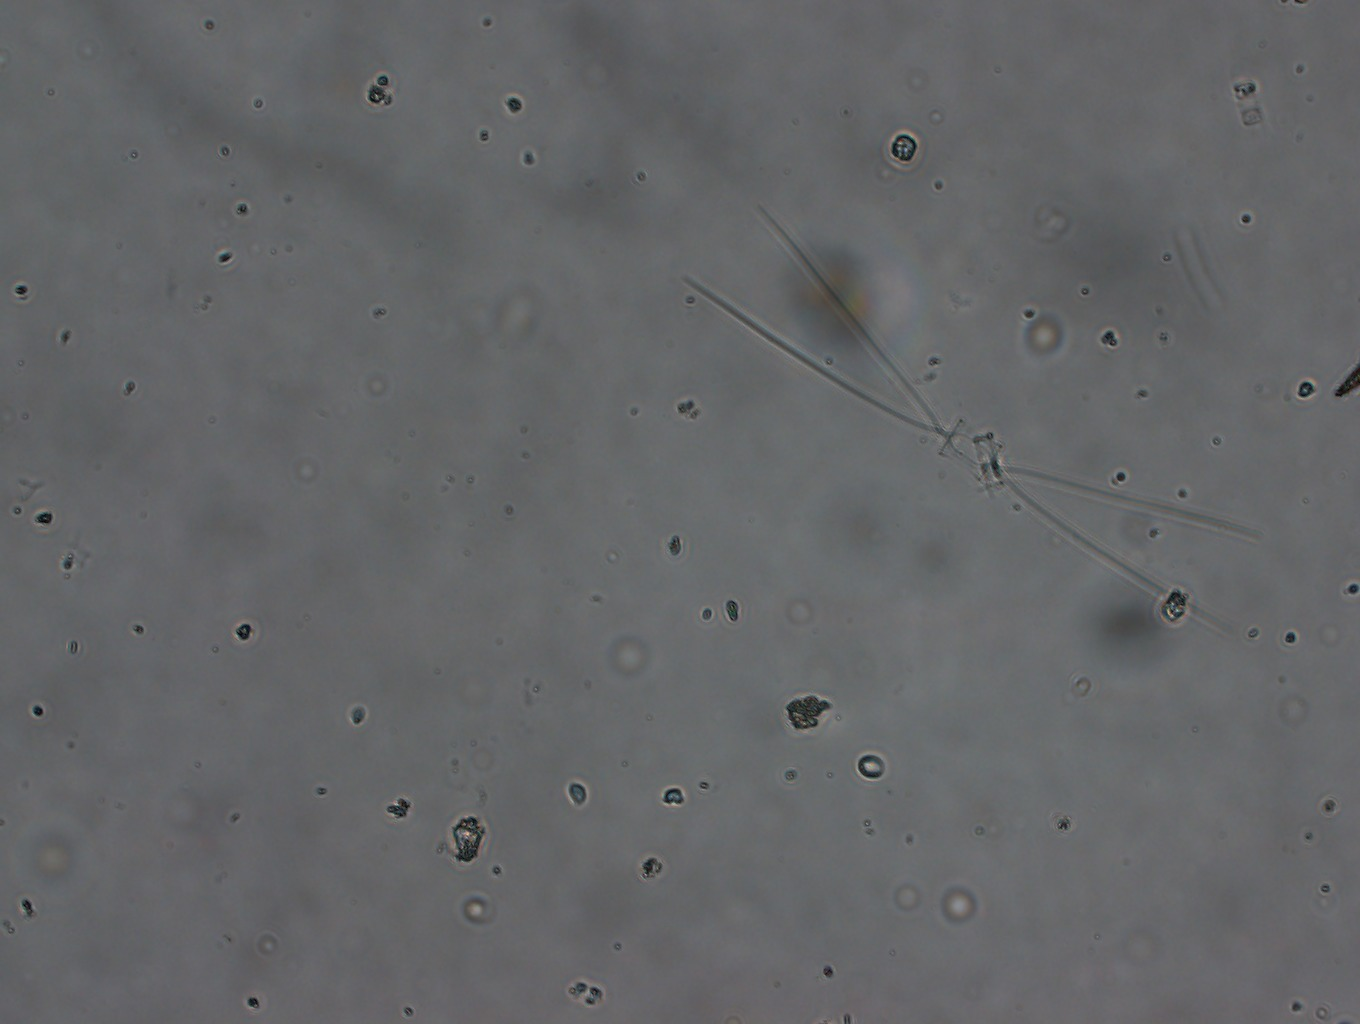chaetoceros: (664, 191, 1275, 648)
